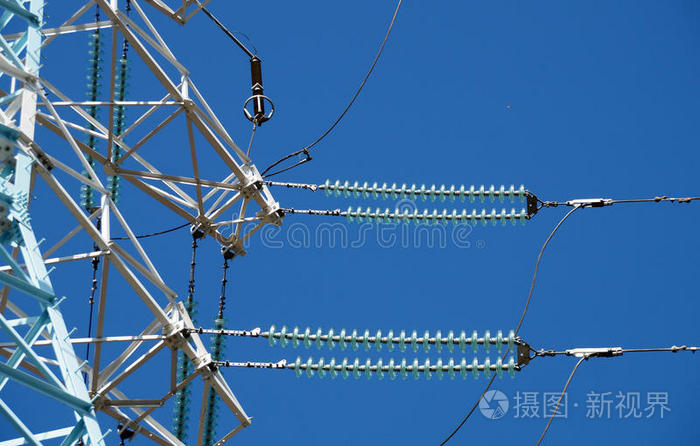insulator: (266, 321, 518, 353), (289, 352, 520, 380), (323, 177, 529, 202), (197, 314, 233, 446), (79, 29, 105, 208), (103, 53, 134, 201), (341, 205, 528, 229), (170, 298, 198, 443)
